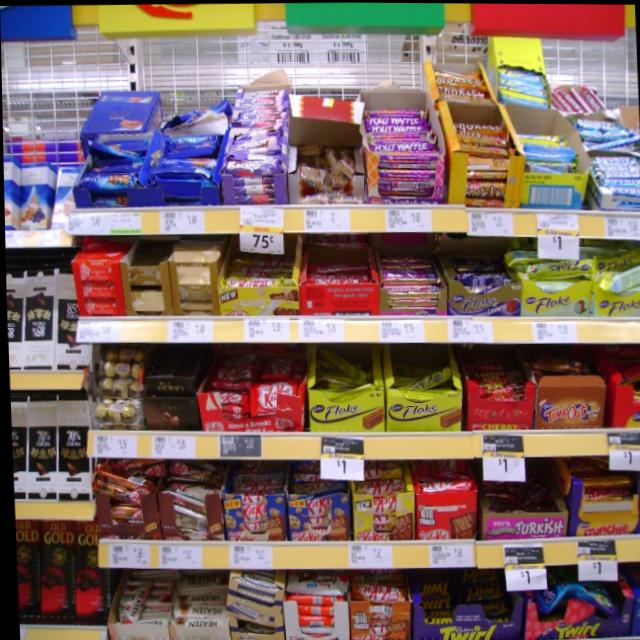q19: (244, 381, 293, 419)
